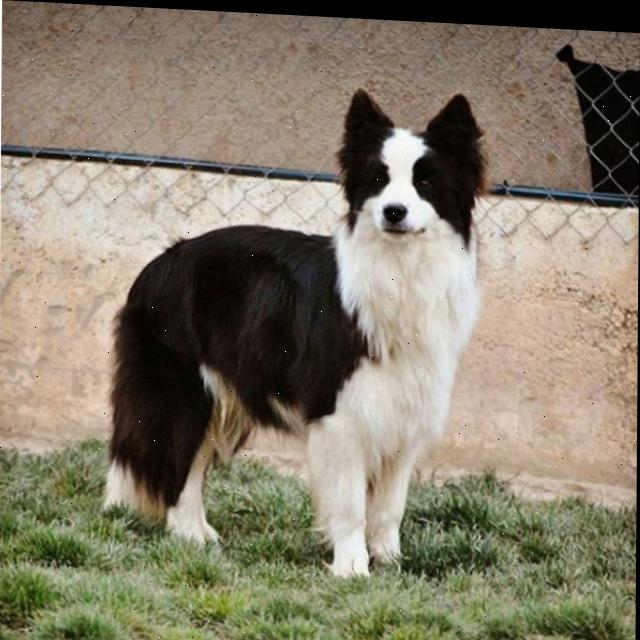ALASKAN_MALAMUTE: (77, 60, 512, 595)
